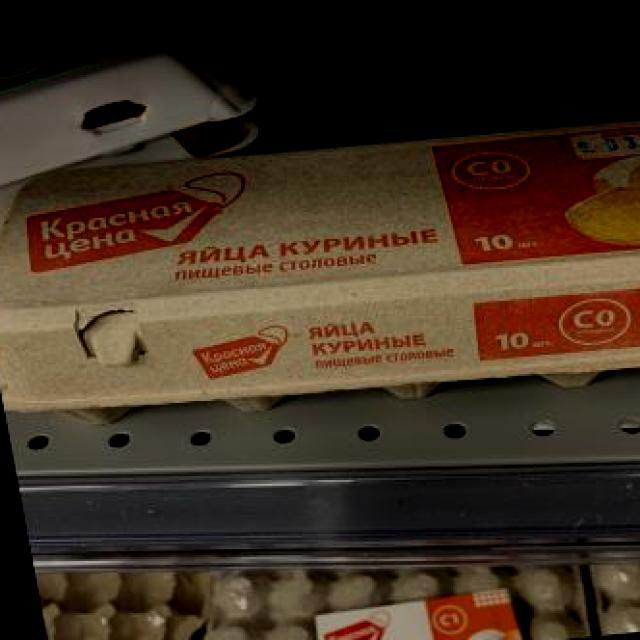Eggs: (0, 91, 640, 447)
